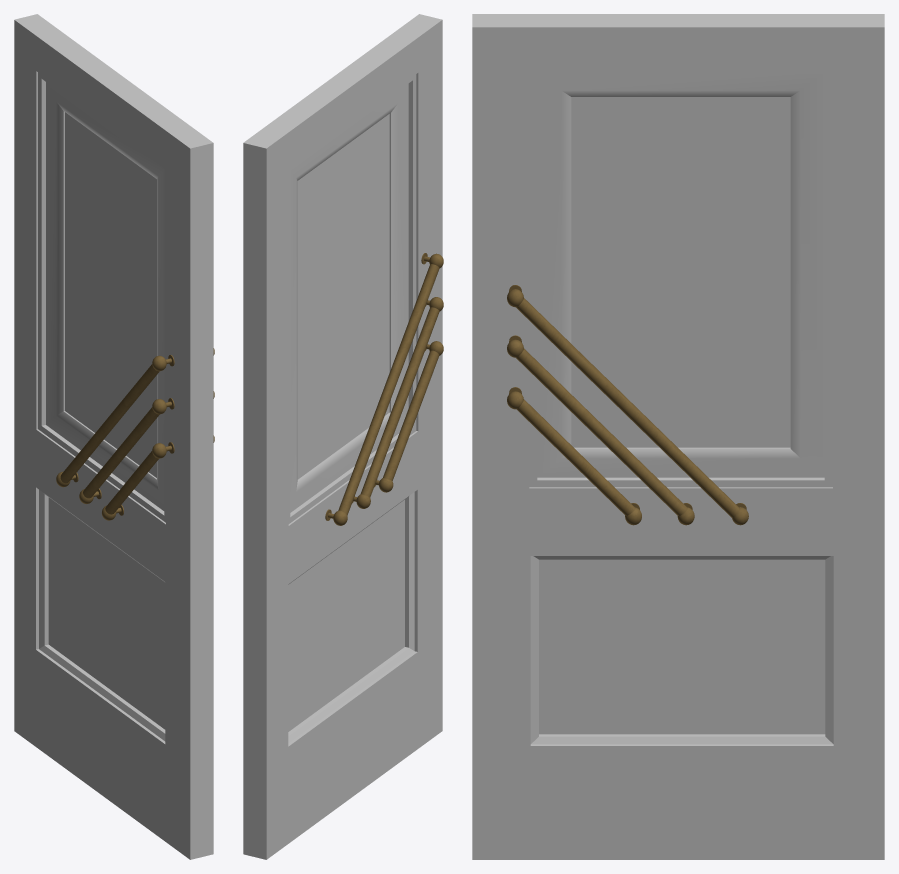
Rendered from SM_WD44_DOOR_1.fbx.
3 views of the same model, side by side, from view 1: azimuth 30°, elevation 25°; view 2: azimuth 150°, elevation 25°; view 3: azimuth 270°, elevation 25° (orthographic). The views are drawn at different scales.
Parts seen in each view (by area): view 1: SM_WD44_DOOR_1; view 2: SM_WD44_DOOR_1; view 3: SM_WD44_DOOR_1.
Part boxes in pixels (x1,y1,x2,y2): SM_WD44_DOOR_1: [14, 14, 214, 859]; SM_WD44_DOOR_1: [243, 14, 443, 859]; SM_WD44_DOOR_1: [472, 14, 884, 859].
Bounding box in the file's own units: 24.13 × 121 × 271.
